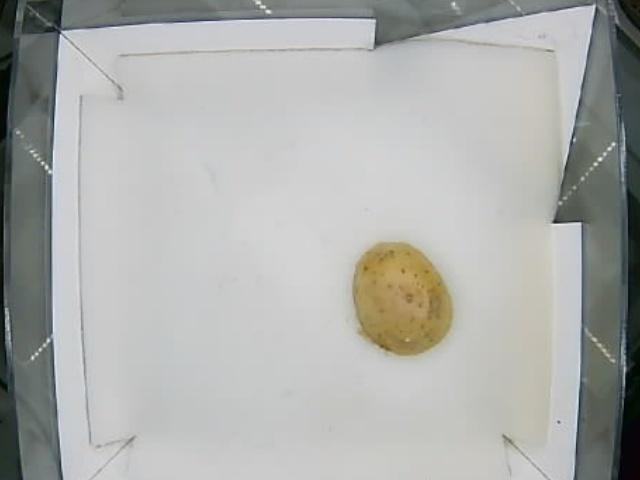Potato: (352, 239, 454, 356)
